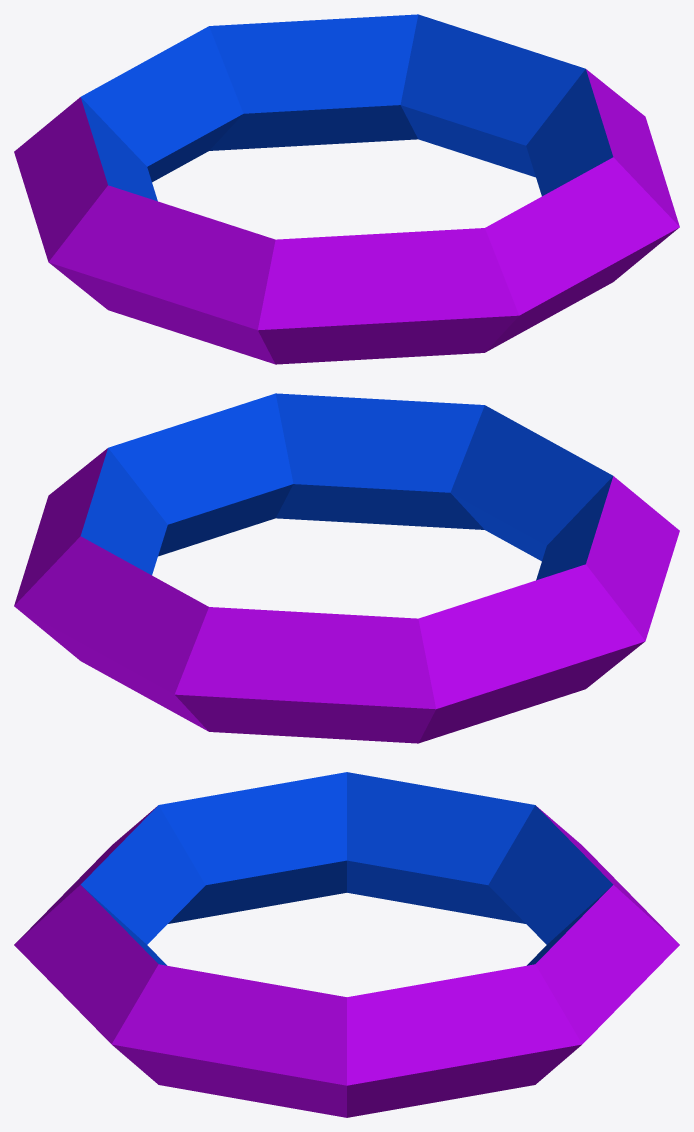
File: Ring_4.fbx
3 views of the same model, one above another, from view 1: azimuth 30°, elevation 25°; view 2: azimuth 150°, elevation 25°; view 3: azimuth 270°, elevation 25° (orthographic). The views are drawn at different scales.
Visible parts, largest first — view 1: Ring_4; view 2: Ring_4; view 3: Ring_4.
Part boxes in pixels (x1,y1,x2,y2): Ring_4: (14,14,679,364); Ring_4: (14,393,679,743); Ring_4: (14,772,679,1117).
Size of the model in its own units: 2.5 by 0.5 by 2.5.
